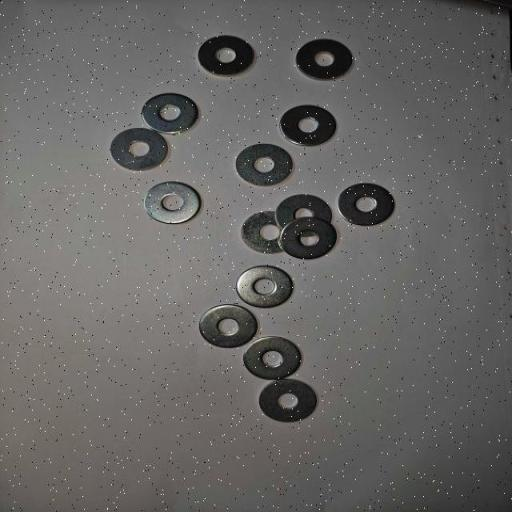washer: (242, 335, 302, 380), (144, 180, 202, 225), (235, 143, 294, 187), (200, 304, 258, 348), (110, 128, 169, 171), (279, 217, 338, 260), (259, 379, 318, 422), (296, 38, 354, 81), (279, 104, 337, 147), (236, 265, 294, 308), (338, 183, 394, 226), (198, 35, 254, 77), (142, 93, 198, 134), (275, 194, 332, 229), (241, 211, 286, 255)
